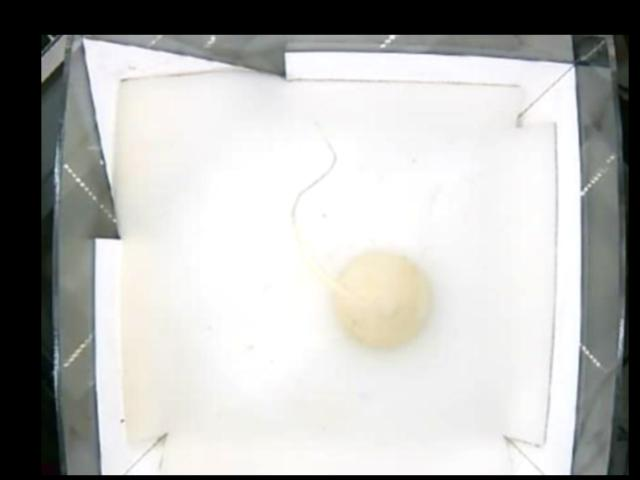Mooli: (335, 249, 429, 347)
